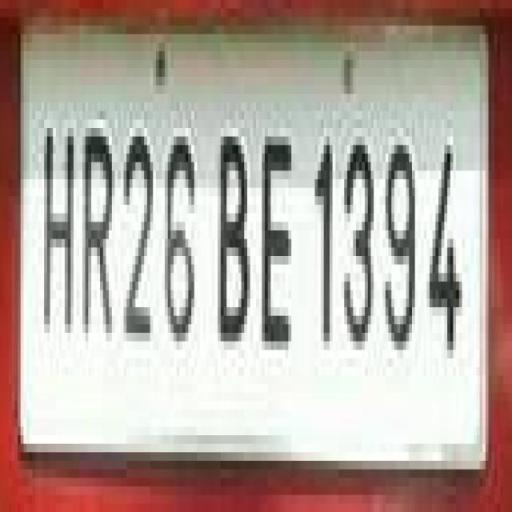number plate: (9, 17, 482, 478)
